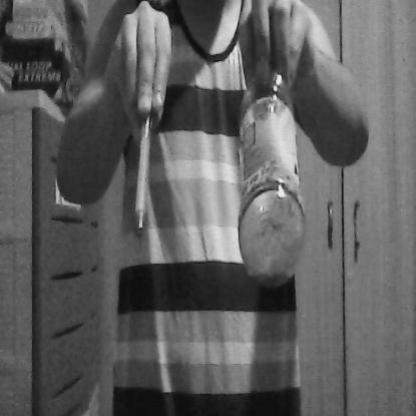Plastic Bottle: (235, 25, 309, 288)
